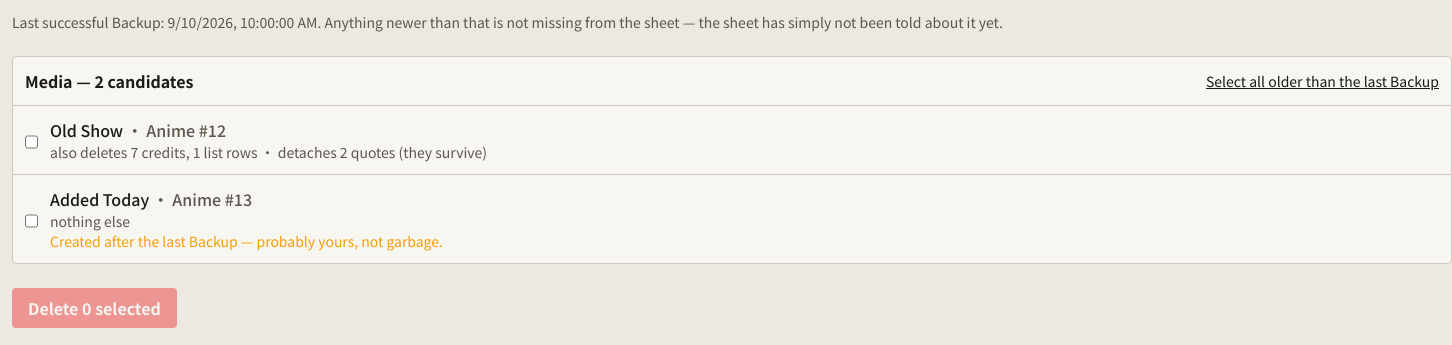
Test: CleanOrphansReport › select-all skips rows created after the last backup
Step 1. Click the button with test id "select-all-Media" → {"x": 1322, "y": 81}, box [1206, 71, 1439, 91]
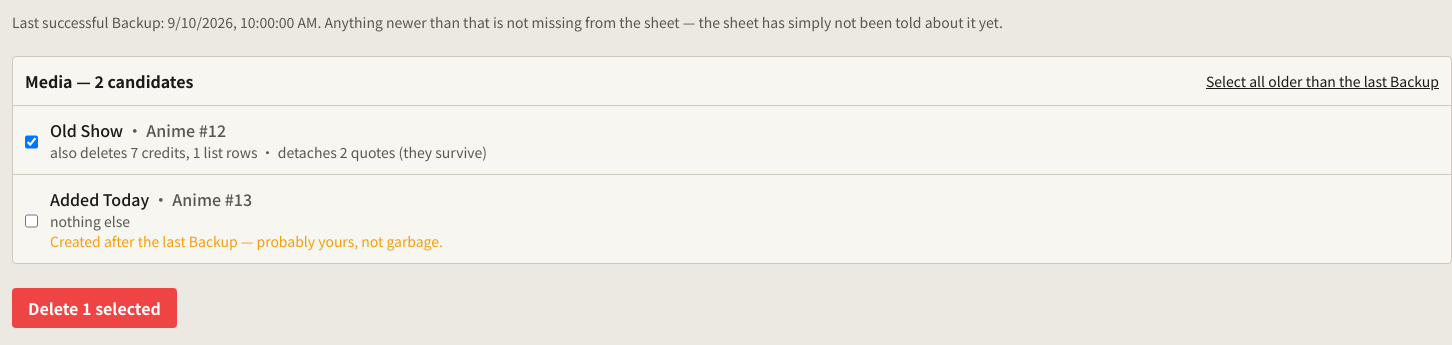
Expected: the checkbox with test id "row-b" is not checked, [25, 191, 38, 251]
Result: the checkbox with test id "row-a" is checked at [25, 122, 38, 162]
